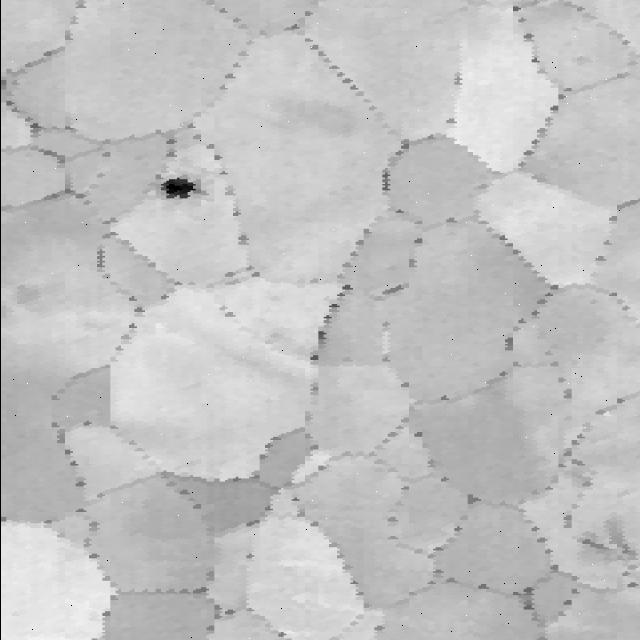good_void: (141, 166, 230, 209), (212, 303, 240, 320)
